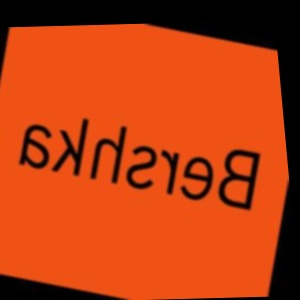bershka: (247, 52, 274, 115)
